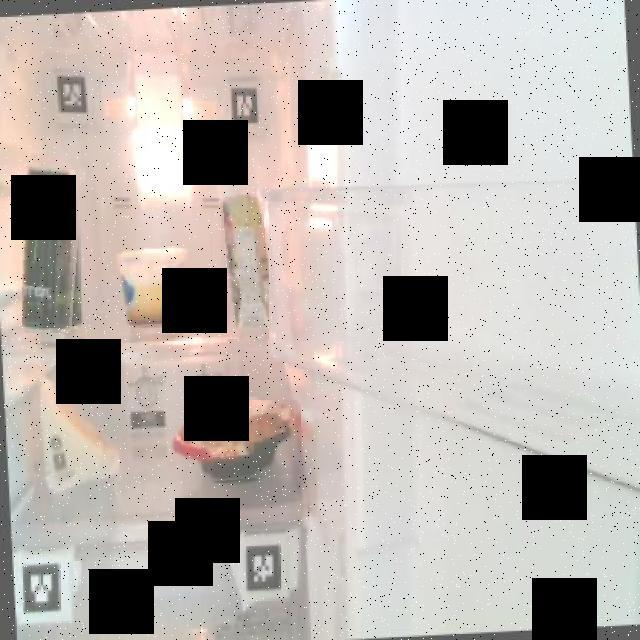bento: (170, 400, 301, 485)
energy_drink: (22, 158, 84, 333)
pudding: (110, 244, 190, 328)
sandwich: (34, 366, 124, 500)
smoothie: (213, 175, 269, 339)
